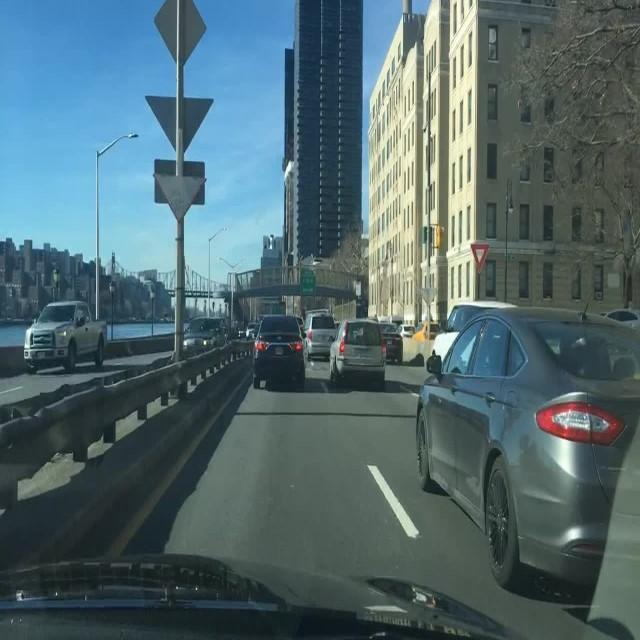normal: (408, 300, 634, 610), (253, 314, 308, 390), (328, 320, 386, 389), (376, 324, 402, 365), (306, 328, 337, 362), (602, 307, 640, 327)
